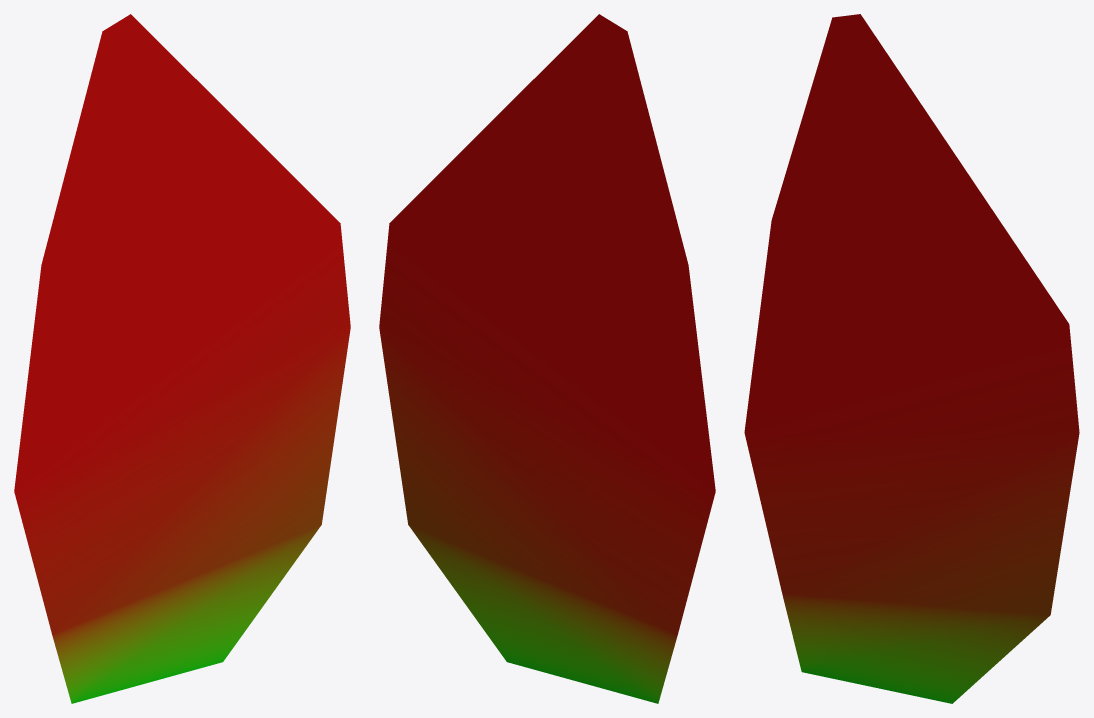
Rendered from Green Herb_LOD3_Var2_tbbpaier.fbx.
3 views of the same model, side by side, from view 1: azimuth 30°, elevation 25°; view 2: azimuth 150°, elevation 25°; view 3: azimuth 330°, elevation 25° (orthographic).
Parts seen in each view (by area): view 1: _6ae6_Var2_LOD3; view 2: _6ae6_Var2_LOD3; view 3: _6ae6_Var2_LOD3.
Part boxes in pixels (bbox=[...]): _6ae6_Var2_LOD3: bbox=[14, 14, 350, 703]; _6ae6_Var2_LOD3: bbox=[379, 14, 715, 703]; _6ae6_Var2_LOD3: bbox=[744, 14, 1079, 703].
Bounding box in the file's own units: 13.2 × 25.32 × 1.91e-06.
